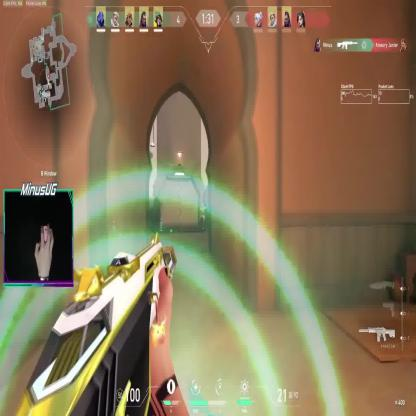enemy: (199, 196, 208, 229)
enemy_head: (202, 199, 205, 206)
